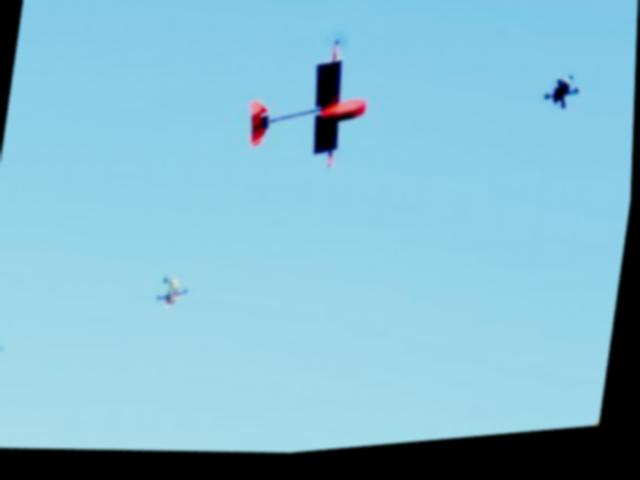uav: (229, 25, 390, 198)
